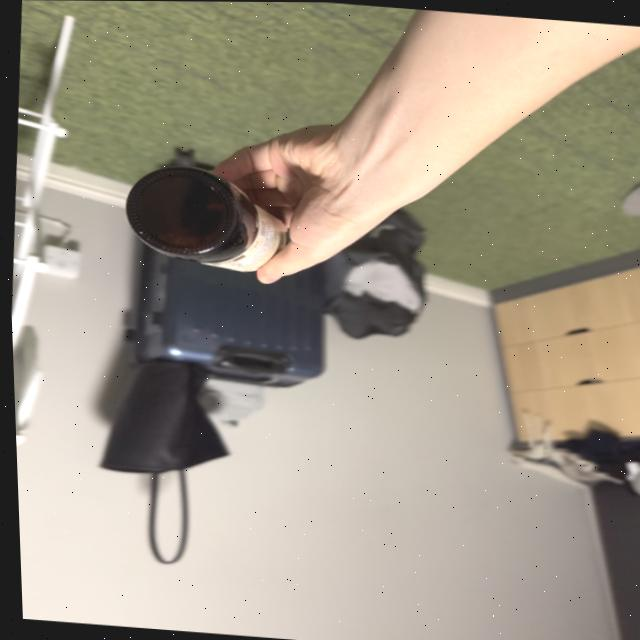beer: (112, 157, 306, 281)
